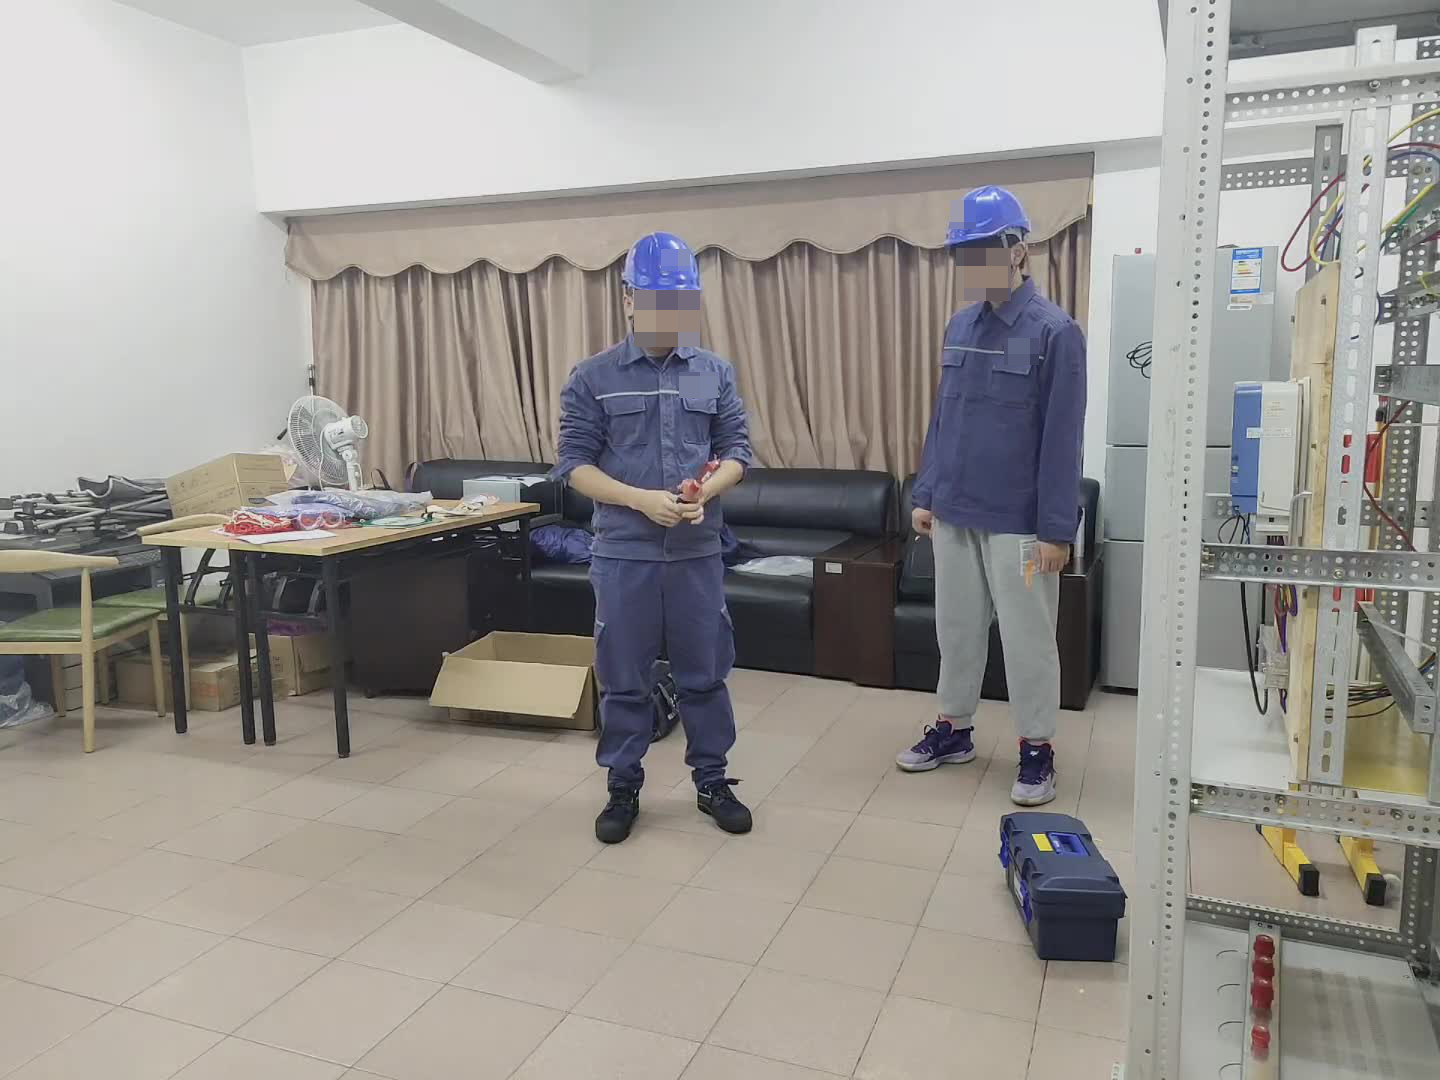downcloth: (917, 530, 1075, 732)
downsuit: (590, 571, 742, 790)
halt: (940, 184, 1037, 295), (618, 228, 710, 343)
hand: (1035, 530, 1079, 577), (641, 493, 678, 532), (677, 499, 710, 527), (911, 510, 929, 534)
inear: (995, 234, 1034, 278)
person: (547, 225, 764, 838), (897, 182, 1094, 773)
testrod: (685, 454, 721, 497)
upsuit: (910, 284, 1091, 531), (554, 335, 758, 549)
wrongtop: (555, 455, 682, 524), (678, 461, 744, 503)
